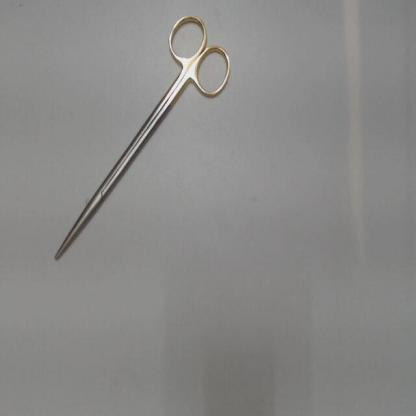7 Metzenbaum Scissors: (55, 10, 234, 262)
